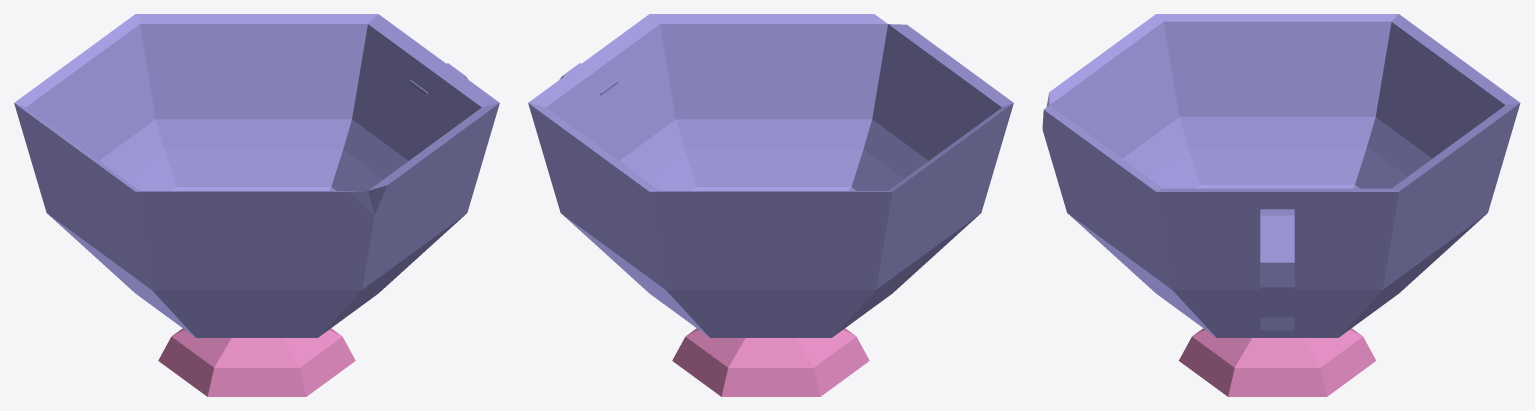
The model's file is teacup.fbx.
3 views of the same model, side by side, from view 1: azimuth 30°, elevation 25°; view 2: azimuth 150°, elevation 25°; view 3: azimuth 270°, elevation 25° (orthographic).
Visible parts, largest first — view 1: Sphere, Sphere.001; view 2: Sphere, Sphere.001; view 3: Sphere, Sphere.001.
Part boxes in pixels (x1,y1,x2,y2): Sphere: (14,14,499,337); Sphere.001: (158,328,355,396); Sphere: (528,14,1013,337); Sphere.001: (672,328,869,396); Sphere: (1042,14,1520,337); Sphere.001: (1179,328,1376,396).
Size of the model in its own units: 193 by 117 by 197.
